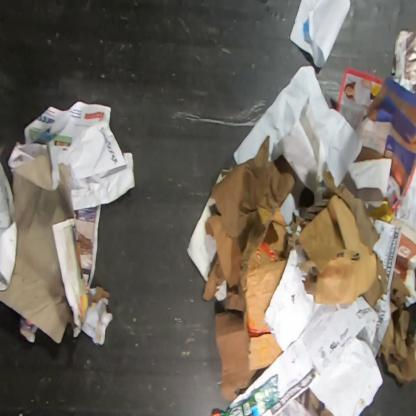cardboard: (202, 135, 298, 403), (0, 154, 76, 344), (289, 169, 387, 313), (239, 200, 295, 372), (377, 269, 415, 385)
